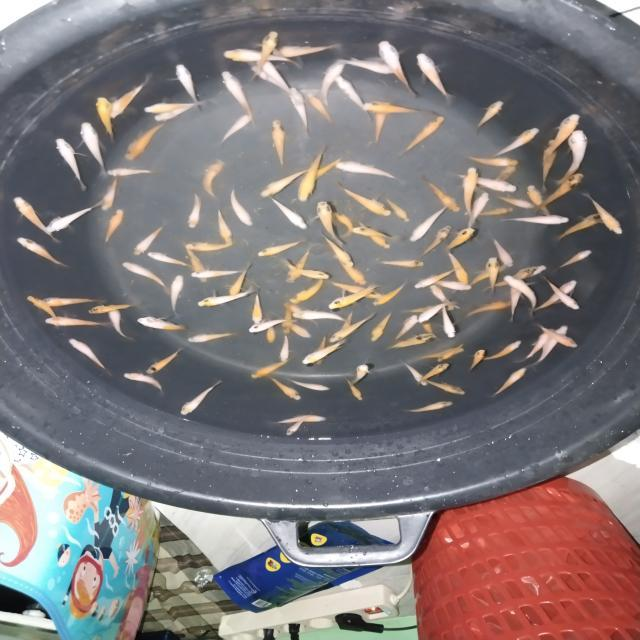nila: (374, 38, 420, 98), (552, 125, 592, 188), (12, 194, 62, 244), (220, 70, 262, 128), (109, 75, 157, 122), (46, 197, 106, 234), (400, 114, 448, 160), (414, 52, 454, 107), (534, 174, 586, 216), (14, 235, 72, 272), (542, 111, 584, 161), (486, 126, 544, 162), (553, 208, 610, 244), (64, 336, 113, 376), (54, 136, 90, 190), (336, 182, 390, 218), (528, 322, 572, 366), (584, 192, 626, 236), (501, 273, 544, 315), (221, 48, 306, 69), (298, 144, 328, 203), (282, 86, 316, 138), (408, 204, 452, 244), (335, 160, 405, 185), (180, 380, 225, 418), (250, 29, 282, 82), (531, 278, 578, 314), (330, 76, 372, 116), (124, 122, 166, 162), (448, 170, 518, 194), (80, 121, 110, 176), (541, 274, 584, 312), (268, 194, 310, 232), (173, 64, 206, 112), (121, 260, 170, 292), (261, 58, 298, 100), (420, 173, 458, 213), (464, 191, 494, 241), (333, 55, 401, 77), (319, 56, 350, 104), (131, 220, 170, 258), (513, 327, 554, 363), (216, 113, 258, 148), (326, 284, 378, 312), (260, 168, 306, 199), (330, 314, 376, 344), (276, 298, 323, 327), (319, 234, 359, 268), (298, 339, 350, 365), (246, 58, 288, 90), (487, 266, 538, 292), (317, 198, 344, 246), (418, 222, 452, 260), (228, 181, 256, 227), (270, 312, 314, 341), (444, 253, 476, 292), (120, 370, 168, 396), (198, 289, 263, 308), (304, 90, 338, 126), (491, 365, 528, 398), (526, 184, 558, 222), (382, 331, 437, 353), (140, 98, 207, 116), (144, 347, 187, 375), (152, 100, 202, 124), (357, 220, 397, 250), (250, 354, 296, 380), (538, 138, 560, 192), (533, 324, 580, 349), (304, 156, 344, 185), (462, 298, 510, 322), (282, 248, 314, 284), (412, 268, 458, 293), (274, 42, 345, 58), (94, 94, 116, 145), (466, 262, 506, 290), (183, 245, 211, 285), (40, 295, 110, 311), (416, 298, 459, 324), (290, 277, 328, 306), (419, 273, 476, 292), (480, 339, 525, 363), (262, 372, 302, 399), (200, 158, 226, 199), (361, 101, 436, 115), (334, 257, 369, 287), (270, 118, 290, 170), (372, 280, 409, 308), (108, 306, 136, 343), (371, 98, 392, 147), (474, 100, 506, 132), (417, 377, 468, 397), (282, 261, 332, 281), (144, 250, 194, 270), (460, 152, 522, 168), (290, 310, 352, 326), (416, 360, 454, 386), (332, 279, 383, 298), (506, 274, 526, 322), (132, 316, 192, 332), (487, 235, 516, 268), (214, 205, 236, 248), (462, 163, 478, 222), (268, 412, 330, 427), (554, 248, 596, 270), (28, 294, 61, 322), (442, 227, 476, 254), (255, 238, 306, 256), (102, 208, 126, 246), (429, 284, 464, 310), (402, 360, 432, 390), (492, 156, 520, 188), (181, 238, 237, 254), (166, 274, 186, 318), (492, 192, 540, 210), (42, 316, 114, 328), (370, 310, 395, 344), (415, 314, 443, 344), (402, 399, 459, 413), (502, 213, 573, 224), (101, 176, 122, 212), (185, 330, 239, 344), (190, 266, 244, 280), (185, 190, 204, 229), (230, 265, 250, 302), (440, 303, 460, 339), (329, 212, 356, 238), (282, 414, 312, 437), (393, 312, 415, 343), (417, 346, 465, 360), (86, 304, 134, 318), (400, 303, 458, 314), (288, 378, 333, 392), (248, 290, 265, 327), (465, 347, 487, 375), (436, 342, 464, 364), (350, 227, 396, 240), (373, 258, 427, 269), (102, 168, 160, 178), (485, 258, 501, 294), (349, 364, 375, 386), (249, 318, 287, 333), (386, 200, 410, 223), (463, 206, 518, 216), (344, 377, 366, 402), (316, 331, 330, 370), (340, 310, 354, 344), (281, 301, 294, 334), (278, 332, 291, 363), (264, 320, 276, 346), (524, 264, 549, 276)
